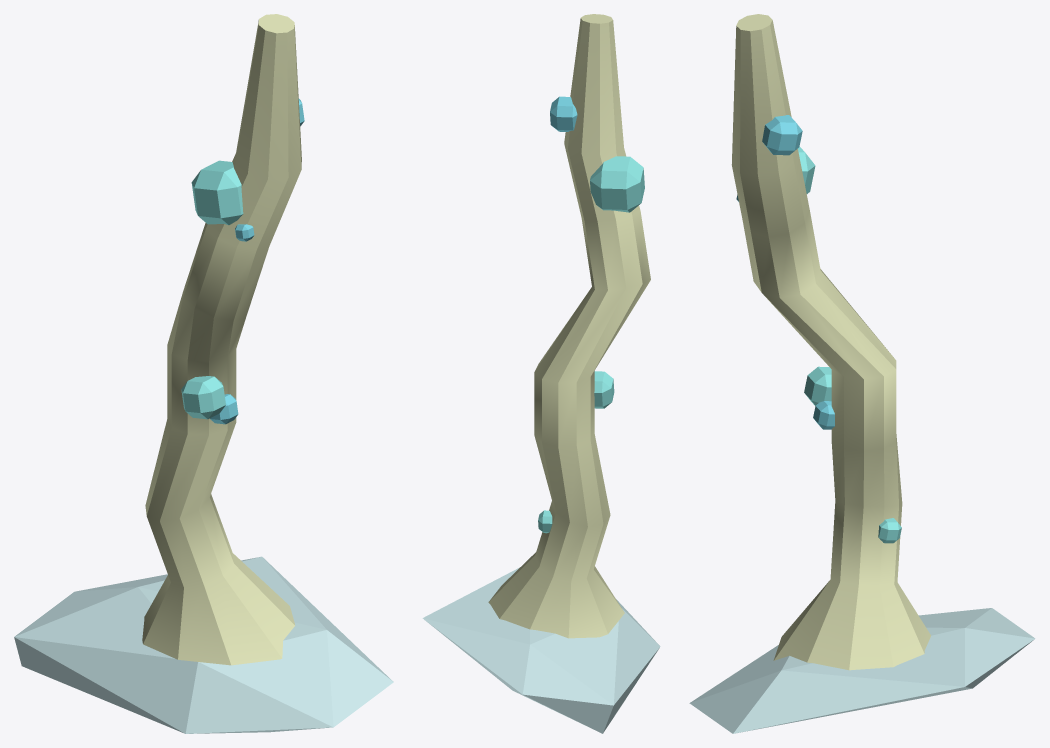
File: LargeStickThing1.fbx
3 views of the same model, side by side, from view 1: azimuth 30°, elevation 25°; view 2: azimuth 150°, elevation 25°; view 3: azimuth 270°, elevation 25° (orthographic). The views are drawn at different scales.
Parts seen in each view (by area): view 1: group13_pasted__group12_pasted__pasted__group7_pasted__paste; view 2: group13_pasted__group12_pasted__pasted__group7_pasted__paste; view 3: group13_pasted__group12_pasted__pasted__group7_pasted__paste.
Boxes of the visible parts, <box> form: group13_pasted__group12_pasted__pasted__group7_pasted__paste: <box>14,14,393,733</box>; group13_pasted__group12_pasted__pasted__group7_pasted__paste: <box>422,14,660,733</box>; group13_pasted__group12_pasted__pasted__group7_pasted__paste: <box>689,14,1035,733</box>.
Bounding box in the file's own units: 1.19 × 3.27 × 1.47.
